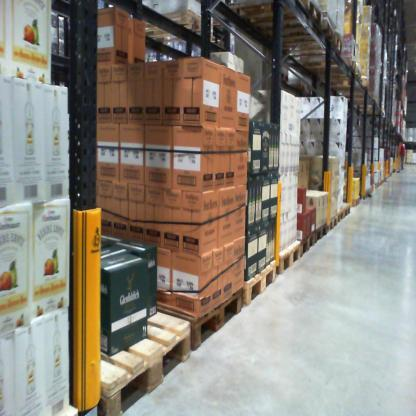pallet: (80, 302, 194, 415), (149, 277, 242, 379), (229, 14, 337, 45), (143, 10, 216, 51), (225, 1, 325, 29), (236, 254, 279, 316), (254, 31, 345, 58), (273, 238, 302, 284), (294, 57, 355, 71), (318, 67, 363, 85), (346, 90, 380, 109), (299, 228, 316, 257), (311, 220, 327, 248), (339, 198, 353, 216), (332, 207, 345, 225), (326, 214, 338, 233), (348, 196, 361, 208), (277, 70, 290, 81)
